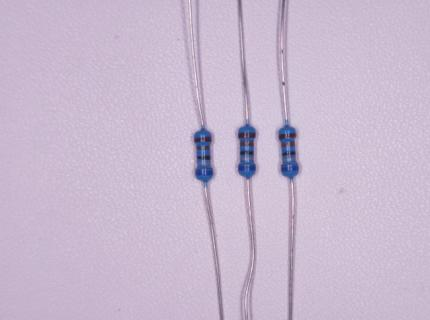Black band: (240, 151, 254, 156), (196, 156, 211, 160), (281, 151, 296, 155)
Blue band: (281, 166, 299, 173), (194, 170, 213, 176), (238, 165, 256, 171)
Brown band: (278, 132, 296, 140), (194, 136, 212, 143), (238, 132, 256, 138)
Grey band: (282, 158, 297, 162), (240, 157, 254, 161), (196, 162, 211, 165)
Orange band: (281, 141, 295, 147), (239, 142, 254, 147), (195, 146, 211, 150)
